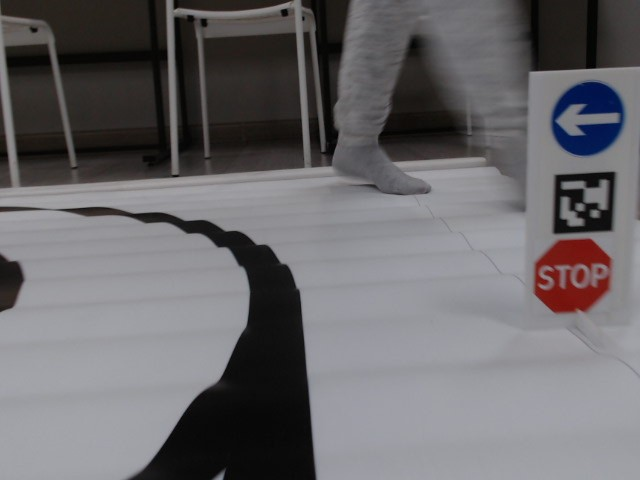Stop: (533, 240, 611, 312)
